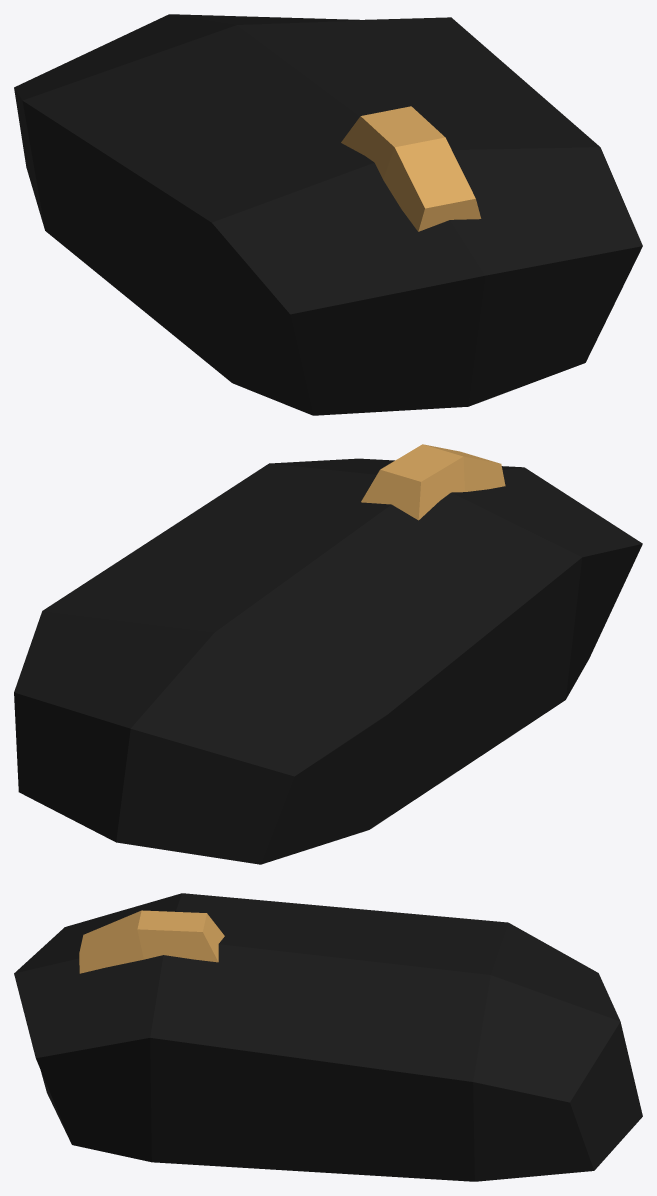
The model's file is PC_Mouse.fbx.
The picture shows the model from 3 angles, top to bottom: view 1: azimuth 30°, elevation 25°; view 2: azimuth 150°, elevation 25°; view 3: azimuth 270°, elevation 25°; orthographic projection. The views are drawn at different scales.
Visible parts, largest first — view 1: pc-mouse; view 2: pc-mouse; view 3: pc-mouse.
Boxes of the visible parts, left/top/right/bottom form: pc-mouse: left=14, top=14, right=642, bottom=415; pc-mouse: left=14, top=444, right=642, bottom=864; pc-mouse: left=14, top=893, right=642, bottom=1181.
Bounding box in the file's own units: 0.0679 × 0.0339 × 0.1095.
